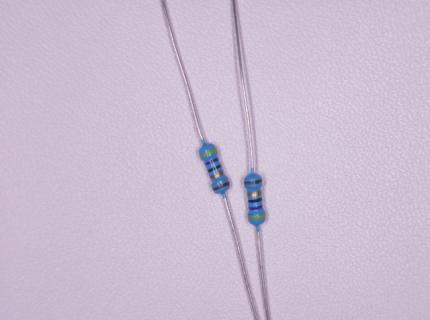Black band: (207, 164, 222, 172), (247, 197, 262, 203)
Brown band: (212, 181, 230, 191), (244, 179, 262, 185)
Gold band: (209, 170, 224, 180), (247, 190, 262, 197)
Violet band: (205, 157, 219, 166), (249, 205, 263, 210)
Yellow band: (199, 148, 218, 158), (248, 214, 265, 219)
